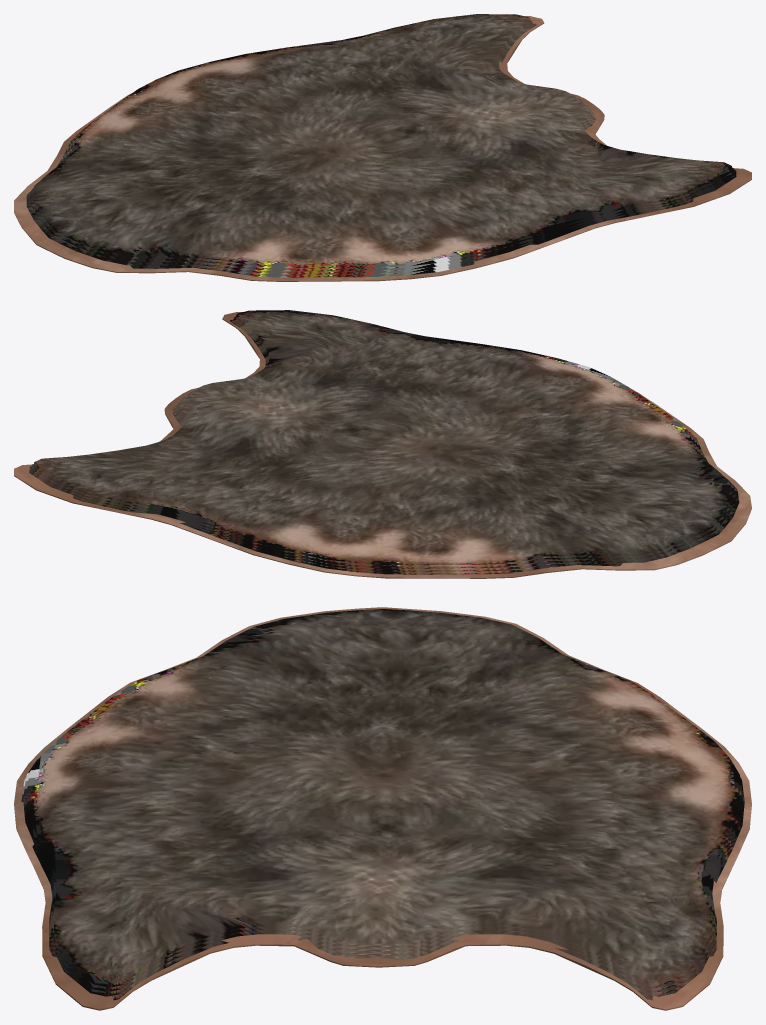
Rendered from o_mdl_env_propFurCarpetA-transformed.glb.
The picture shows the model from 3 angles, top to bottom: view 1: azimuth 30°, elevation 25°; view 2: azimuth 150°, elevation 25°; view 3: azimuth 270°, elevation 25°; orthographic projection. The views are drawn at different scales.
Visible parts, largest first — view 1: default; view 2: default; view 3: default.
Part boxes in pixels (<box>): default: <box>14,14,751,281</box>; default: <box>14,310,751,578</box>; default: <box>14,607,751,1010</box>.
Size of the model in its own units: 6.28 by 0.2143 by 4.88.
1 material, 1 textured.
